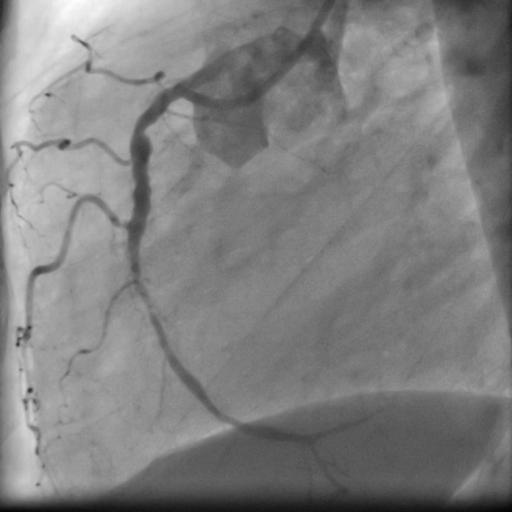Stenosis: (132, 111, 151, 136)
